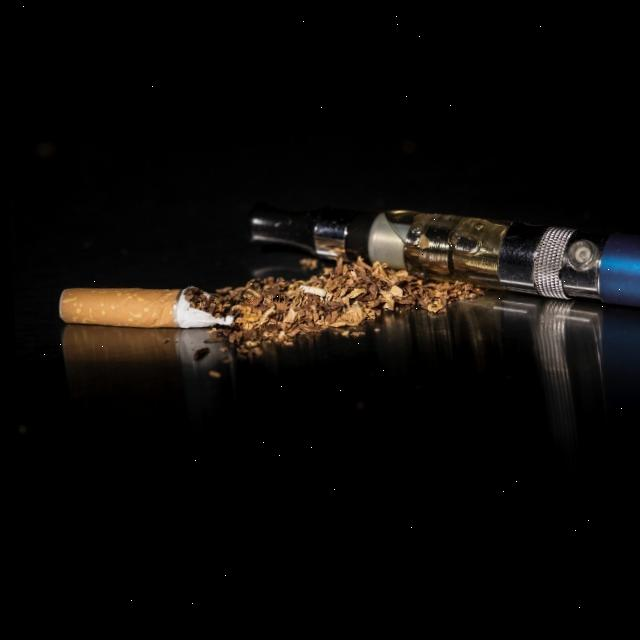cigarette: (55, 279, 235, 336)
vape: (242, 186, 640, 336)
